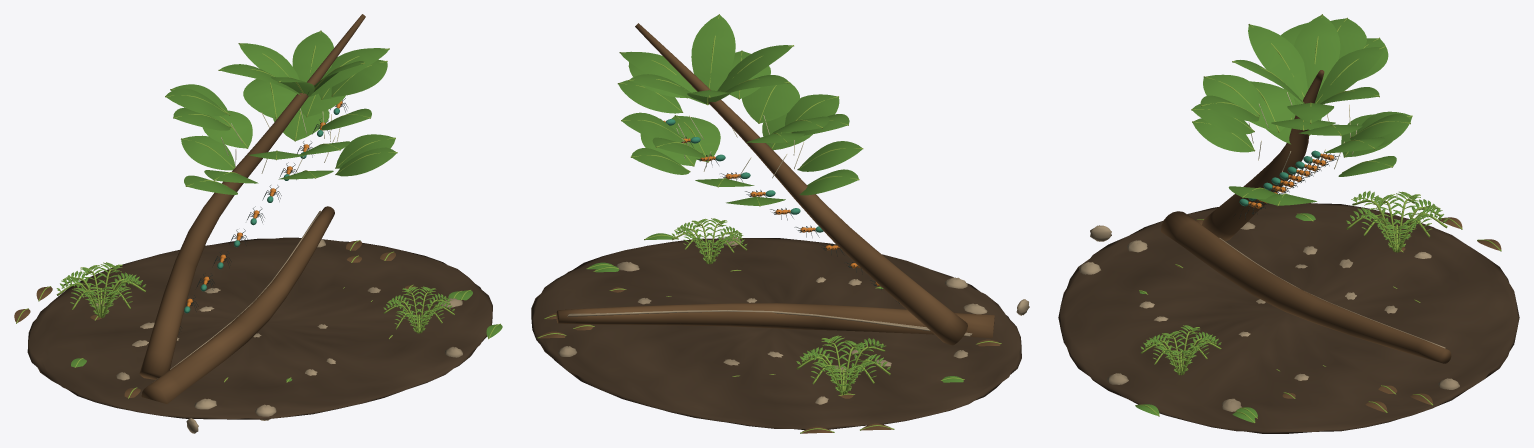
3 views of the same model, side by side, from view 1: azimuth 30°, elevation 25°; view 2: azimuth 150°, elevation 25°; view 3: azimuth 270°, elevation 25° (orthographic). The views are drawn at different scales.
Visible parts, largest first — view 1: B05_SPEC_Substrate_export, B05_SPEC_Leaf jade_export, B05_SPEC_Bark_export, B05_SPEC_Leaf new growth_export, B05_SPEC_Matrix sandstone_export, B05_SPEC_Chitin_export; view 2: B05_SPEC_Substrate_export, B05_SPEC_Leaf jade_export, B05_SPEC_Bark_export, B05_SPEC_Leaf new growth_export, B05_SPEC_Matrix sandstone_export, B05_SPEC_Ochre scales_export; view 3: B05_SPEC_Substrate_export, B05_SPEC_Leaf jade_export, B05_SPEC_Bark_export, B05_SPEC_Leaf new growth_export, B05_SPEC_Matrix sandstone_export, B05_SPEC_Ochre scales_export, B05_SPEC_Iridescent jade_export, B05_SPEC_Chitin_export.
Boxes of the visible parts, x1,y1,x2,y2 form: B05_SPEC_Substrate_export: (27, 237, 492, 419); B05_SPEC_Leaf jade_export: (57, 31, 502, 381); B05_SPEC_Bark_export: (14, 14, 416, 403); B05_SPEC_Leaf new growth_export: (16, 30, 500, 398); B05_SPEC_Matrix sandstone_export: (96, 210, 462, 433); B05_SPEC_Chitin_export: (179, 98, 347, 332); B05_SPEC_Substrate_export: (531, 238, 1021, 429); B05_SPEC_Leaf jade_export: (587, 15, 963, 392); B05_SPEC_Bark_export: (539, 23, 1000, 433); B05_SPEC_Leaf new growth_export: (537, 14, 1001, 433); B05_SPEC_Matrix sandstone_export: (558, 236, 1029, 404); B05_SPEC_Ochre scales_export: (663, 120, 879, 285); B05_SPEC_Substrate_export: (1058, 203, 1519, 433); B05_SPEC_Leaf jade_export: (1135, 15, 1446, 422); B05_SPEC_Bark_export: (1161, 70, 1501, 412); B05_SPEC_Leaf new growth_export: (1135, 14, 1501, 423); B05_SPEC_Matrix sandstone_export: (1079, 222, 1459, 411); B05_SPEC_Ochre scales_export: (1248, 153, 1334, 208); B05_SPEC_Iridescent jade_export: (1239, 150, 1320, 206); B05_SPEC_Chitin_export: (1233, 153, 1339, 219).
Size of the model in its own units: 3 by 1.96 by 2.54.
